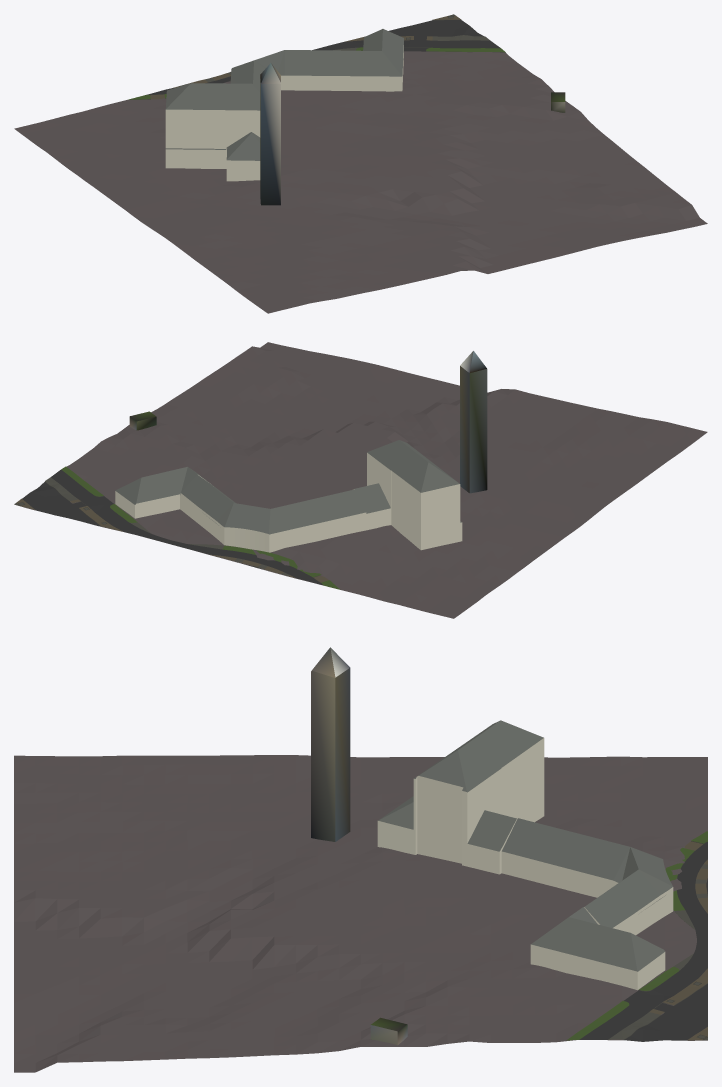
The picture shows the model from 3 angles, top to bottom: view 1: azimuth 30°, elevation 25°; view 2: azimuth 150°, elevation 25°; view 3: azimuth 270°, elevation 25°; orthographic projection. The views are drawn at different scales.
Parts seen in each view (by area): view 1: c_m19_m03; view 2: c_m19_m03; view 3: c_m19_m03.
Boxes of the visible parts, bbox=[...] form: c_m19_m03: bbox=[14, 14, 707, 313]; c_m19_m03: bbox=[14, 342, 707, 618]; c_m19_m03: bbox=[14, 647, 707, 1072].
Size of the model in its own units: 128 by 43.02 by 128.
